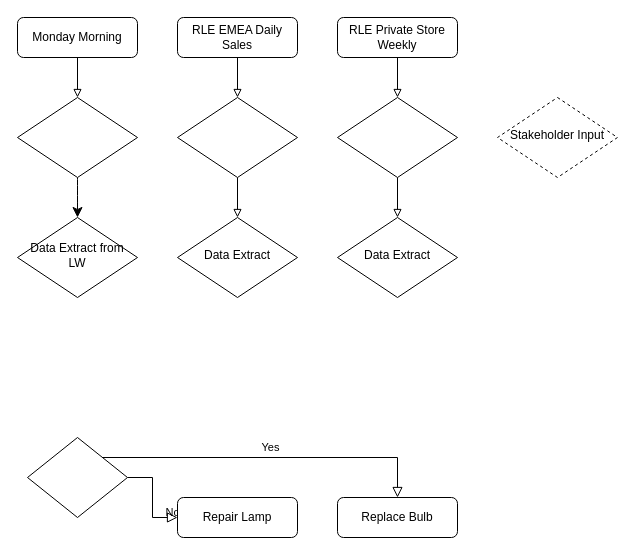
The diagram is 635 pixels wide and 555 high, and some of its shapes have lost their labels. Here are the shapes that lost their labels. From the top down, the centre of each, then its label:
pixel 77 137: Template Duplication
pixel 237 137: PDF to Excel
pixel 397 137: Download a Copy
pixel 77 477: Bulb burned out?
